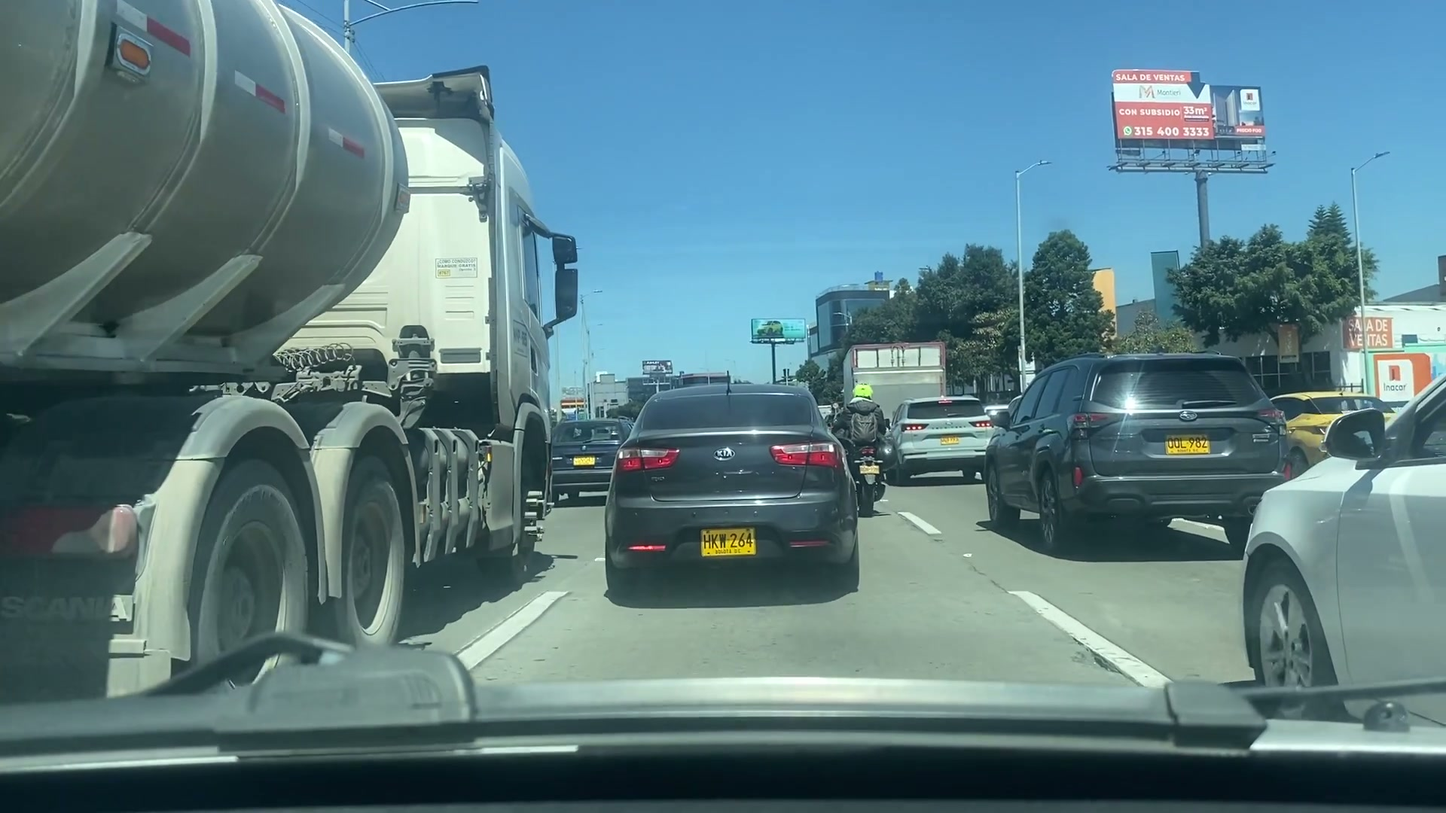car: (1247, 373, 1446, 730), (986, 351, 1290, 540), (600, 387, 865, 587), (882, 387, 993, 485), (540, 419, 637, 500)
motorcycle: (839, 440, 894, 512)
person: (834, 382, 895, 496)
truck: (0, 0, 582, 688), (838, 342, 950, 414)
